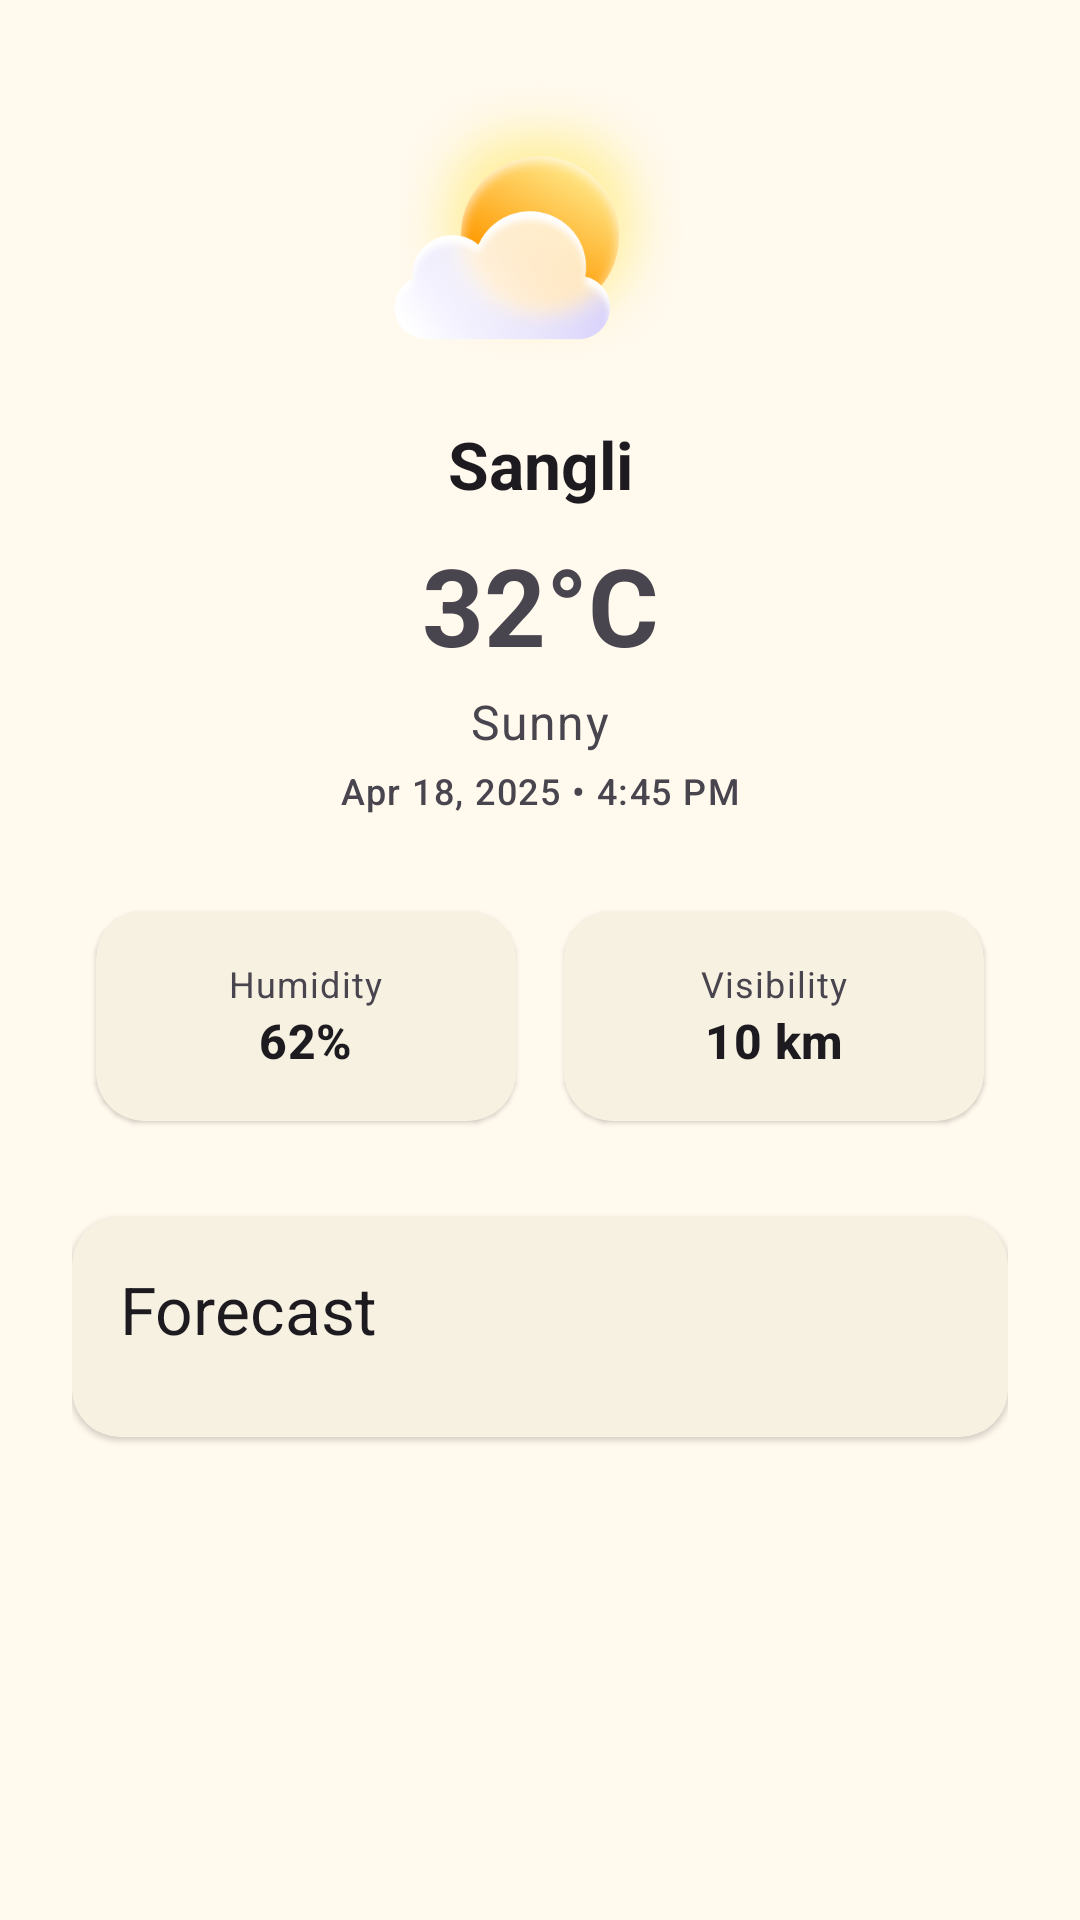

Named icons in this screenshot (1080 × 1920) and their centers, (x=x, y=y):
sunny: (x=540, y=231)
